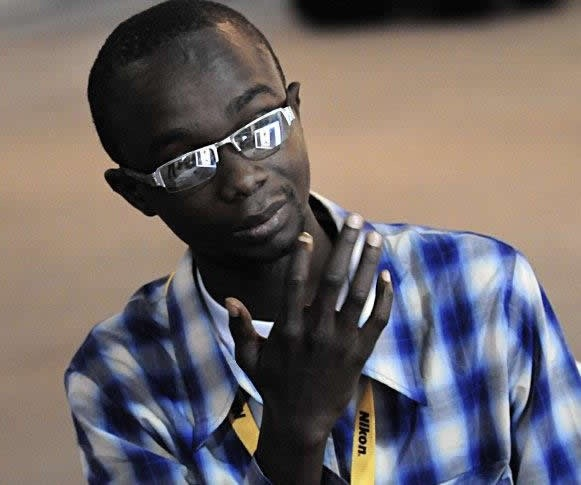face_no_mask: (110, 25, 322, 257)
